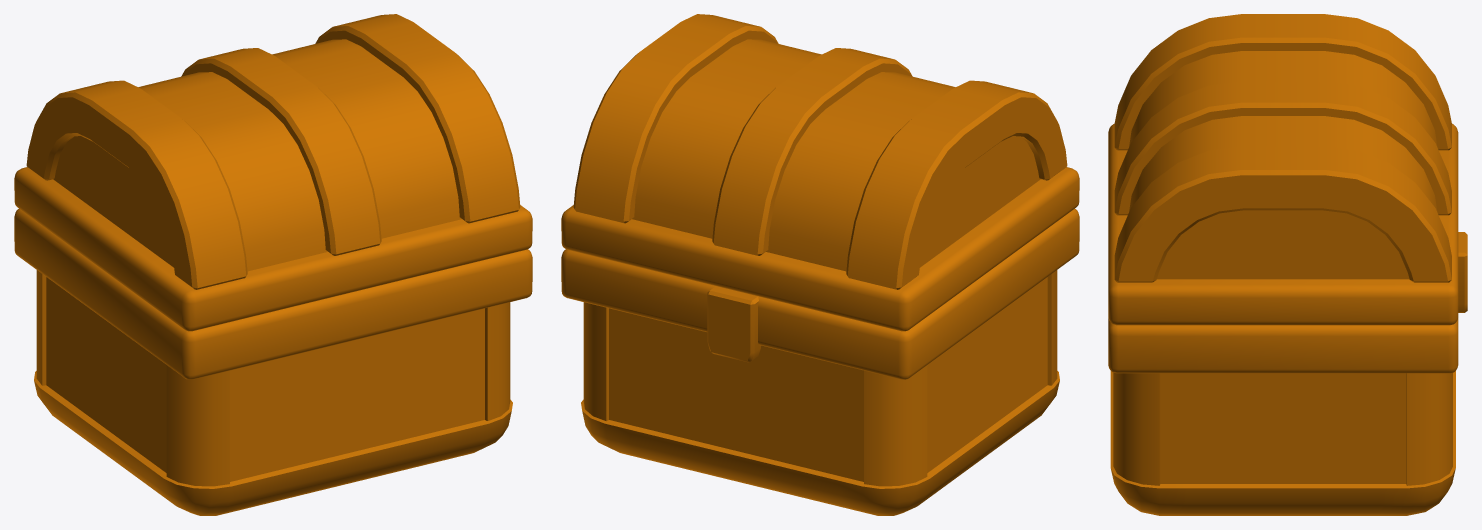
Rendered from RPG_Chest_l.fbx.
3 views of the same model, side by side, from view 1: azimuth 30°, elevation 25°; view 2: azimuth 150°, elevation 25°; view 3: azimuth 270°, elevation 25° (orthographic).
Parts seen in each view (by area): view 1: Bottom.001; view 2: Bottom.001; view 3: Bottom.001.
Boxes of the visible parts, left/top/right/bottom form: Bottom.001: left=14, top=14, right=532, bottom=515; Bottom.001: left=561, top=14, right=1079, bottom=515; Bottom.001: left=1108, top=14, right=1467, bottom=515.
Bounding box in the file's own units: 61.03 × 54.7 × 59.96.
